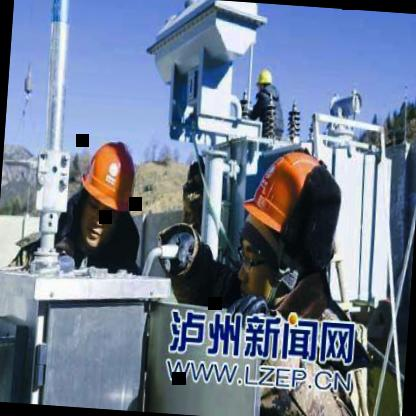helmet: (234, 145, 348, 305), (76, 132, 139, 246), (254, 63, 276, 96)
